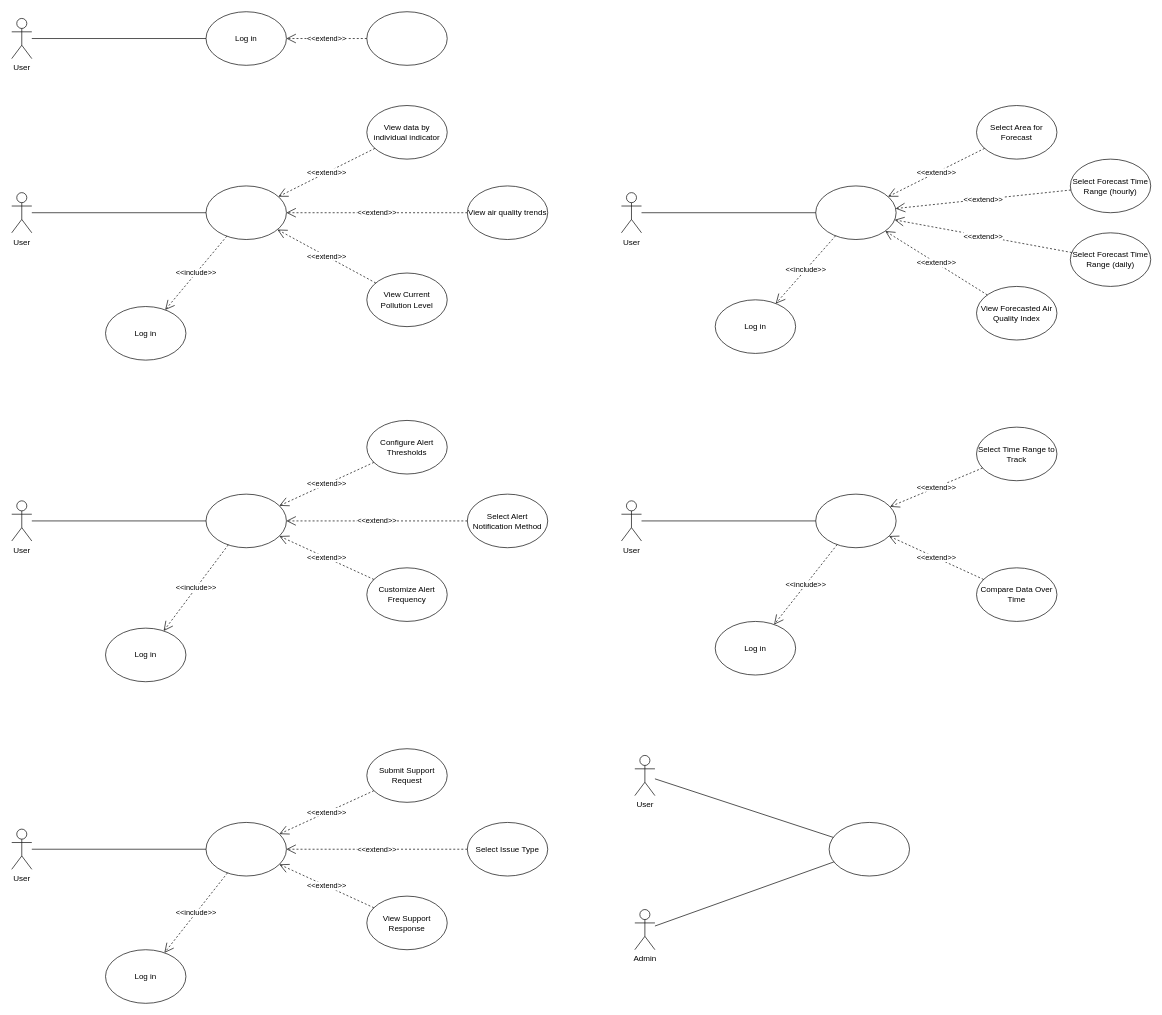
This 1162x1015 diagram has some shape labels left out. Each missing label, with the centre of its shape:
"Configure and receive alerts" belongs at point 245,520.
"Contact support" belongs at point 245,849.
"Forgot password" belongs at point 869,849.
"Log out" belongs at point 406,38.
"Track data history" belongs at point 855,520.
"View air quality forecast" belongs at point 855,212.
"View detailed air quality data" belongs at point 245,212.
